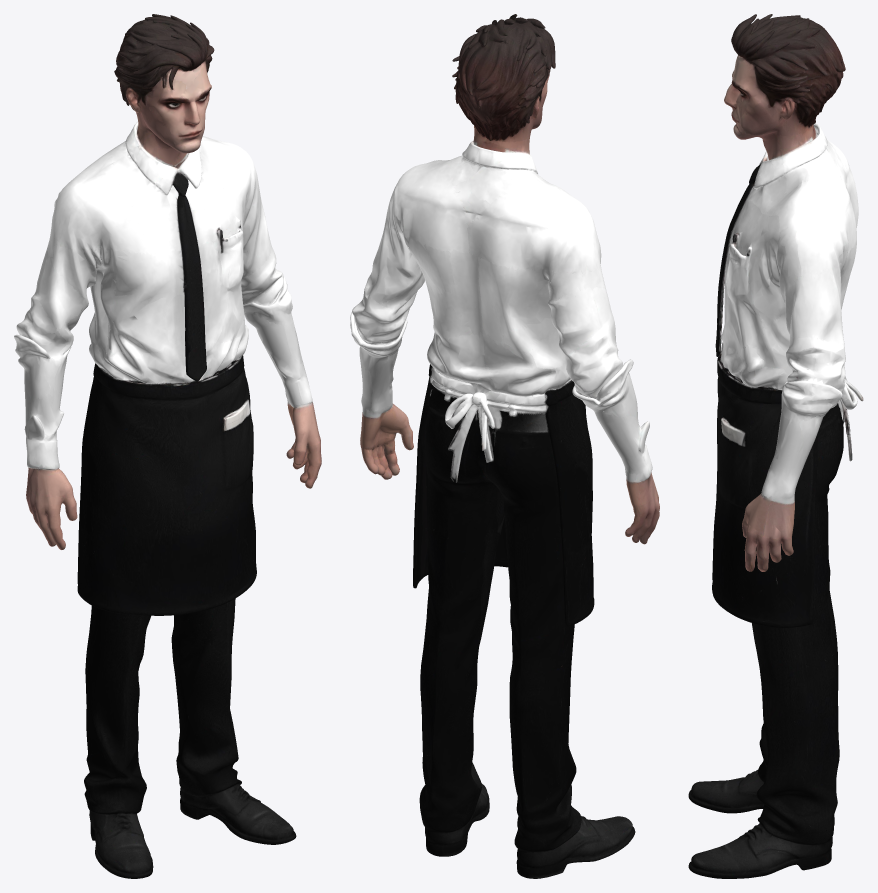
File: john_frank.glb
3 views of the same model, side by side, from view 1: azimuth 30°, elevation 25°; view 2: azimuth 150°, elevation 25°; view 3: azimuth 270°, elevation 25° (orthographic).
Parts seen in each view (by area): view 1: Mesh_0; view 2: Mesh_0; view 3: Mesh_0.
Part boxes in pixels (left/top/right/bottom): Mesh_0: left=14, top=14, right=321, bottom=878; Mesh_0: left=350, top=14, right=659, bottom=878; Mesh_0: left=688, top=14, right=863, bottom=878.
Bounding box in the file's own units: 0.7011 × 1.9 × 0.3693.
Materials: 1 (1 with a texture image).
